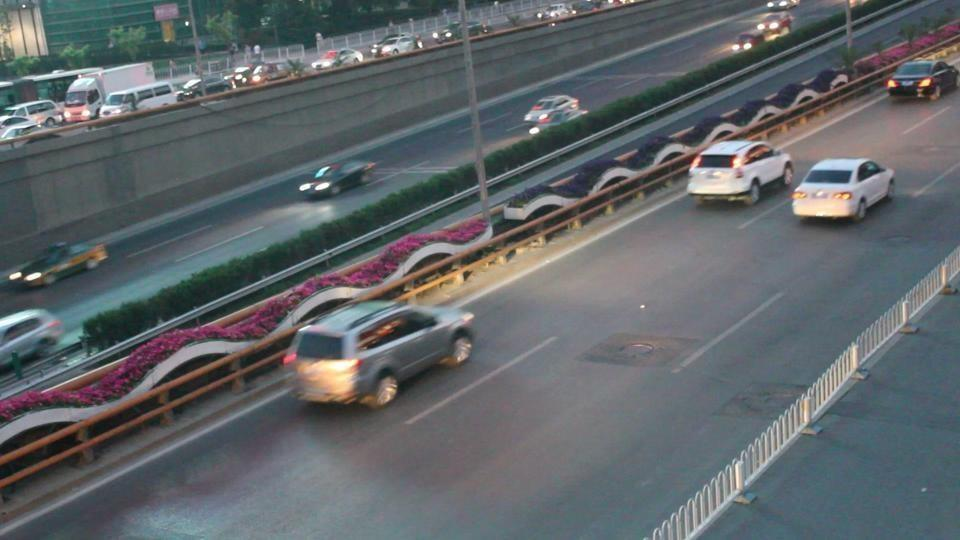car: (288, 300, 476, 411), (502, 154, 641, 226), (687, 139, 795, 207), (791, 156, 896, 222), (4, 240, 111, 290), (0, 308, 65, 377), (885, 59, 960, 101), (298, 160, 378, 198), (112, 81, 195, 113), (67, 89, 145, 123), (734, 14, 795, 51), (524, 95, 583, 130), (2, 101, 63, 129), (176, 76, 231, 100), (308, 48, 362, 72), (228, 64, 284, 86), (374, 34, 422, 57), (0, 116, 40, 140)
